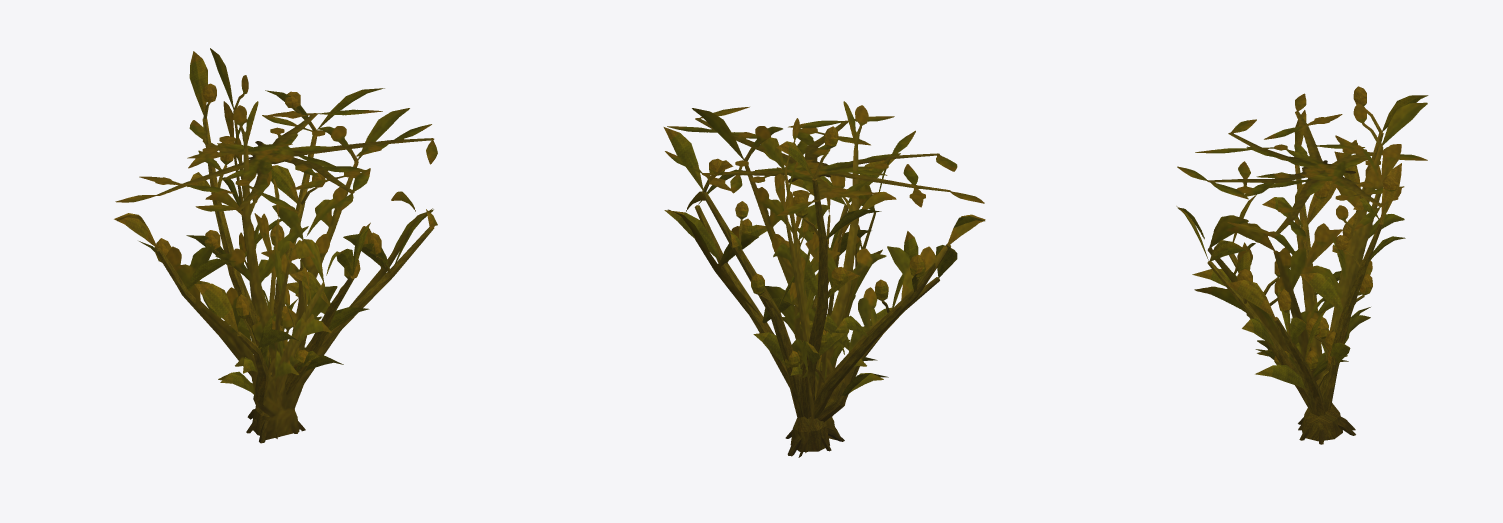
File: Alga-02-Sargaco-de-Boias.glb
3 views of the same model, side by side, from view 1: azimuth 30°, elevation 25°; view 2: azimuth 150°, elevation 25°; view 3: azimuth 270°, elevation 25° (orthographic). The views are drawn at different scales.
Parts seen in each view (by area): view 1: Alga-02-Sargaco-de-Boias impostor, Colonia; view 2: Alga-02-Sargaco-de-Boias impostor, Colonia; view 3: Alga-02-Sargaco-de-Boias impostor, Colonia.
Boxes of the visible parts, x1,y1,x2,y2 form: Alga-02-Sargaco-de-Boias impostor: [115, 48, 437, 439]; Colonia: [114, 51, 437, 443]; Alga-02-Sargaco-de-Boias impostor: [665, 101, 985, 457]; Colonia: [663, 126, 984, 456]; Alga-02-Sargaco-de-Boias impostor: [1177, 93, 1427, 430]; Colonia: [1176, 86, 1428, 444].
Size of what is drawn, in the model's own units: 1.06 by 1.06 by 1.06.
Materials: 2 (2 with a texture image).
